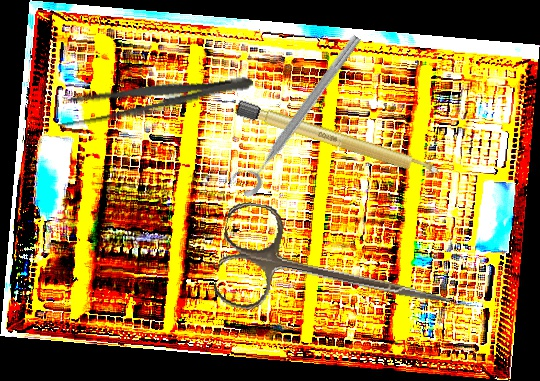Dressing Forceps: (53, 63, 256, 133)
Fixation Ring: (226, 24, 366, 201)
Iris Scissors: (211, 198, 461, 348)
Scalpel Handle: (234, 99, 443, 181)
